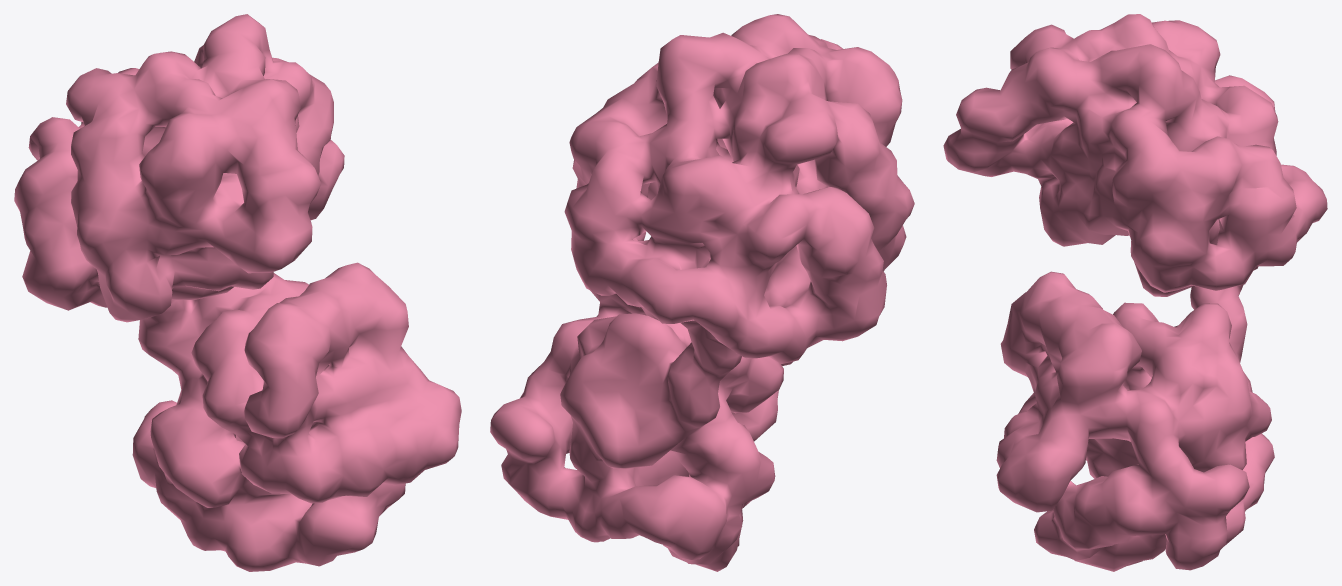
File: translation_eif4a_specimen.glb
3 renders of one model, left to right at view 1: azimuth 30°, elevation 25°; view 2: azimuth 150°, elevation 25°; view 3: azimuth 270°, elevation 25°, orthographic. The views are drawn at different scales.
Parts seen in each view (by area): view 1: GEO-eIF4A-1; view 2: GEO-eIF4A-1; view 3: GEO-eIF4A-1.
Part boxes in pixels (<box>): GEO-eIF4A-1: <box>14,14,461,571</box>; GEO-eIF4A-1: <box>490,14,914,571</box>; GEO-eIF4A-1: <box>943,14,1327,571</box>.
Bounding box in the file's own units: 1.35 × 1.89 × 1.31.
